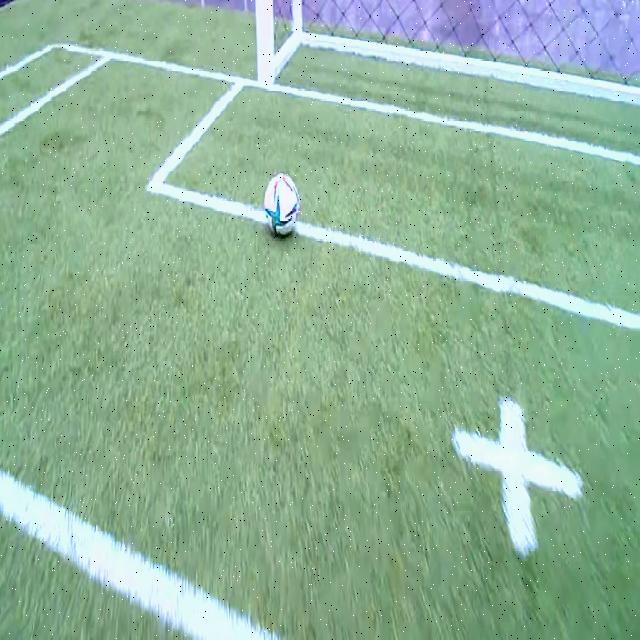ball: (264, 172, 299, 238)
